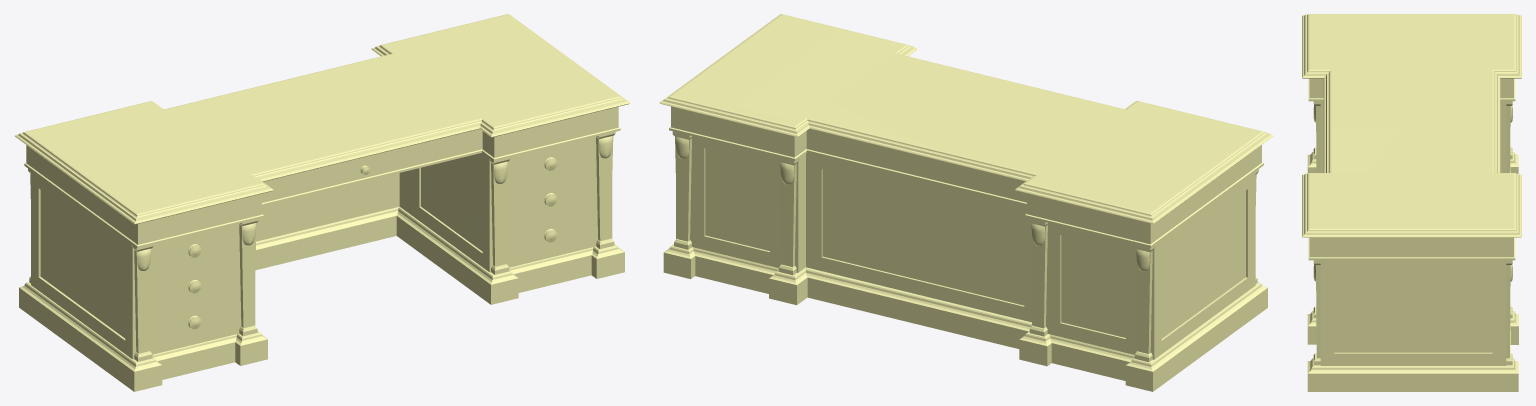
The model's file is MangaKa Props - M_Fu_R_Table_28.glb.
3 renders of one model, left to right at view 1: azimuth 30°, elevation 25°; view 2: azimuth 150°, elevation 25°; view 3: azimuth 270°, elevation 25°, orthographic. The views are drawn at different scales.
Visible parts, largest first — view 1: M_Fu_R_Table_28_blueScreen; view 2: M_Fu_R_Table_28_blueScreen; view 3: M_Fu_R_Table_28_blueScreen.
Part boxes in pixels (x1,y1,x2,y2): M_Fu_R_Table_28_blueScreen: (14, 14, 629, 391); M_Fu_R_Table_28_blueScreen: (659, 14, 1273, 391); M_Fu_R_Table_28_blueScreen: (1302, 14, 1521, 391).
Size of the model in its own units: 2.42 by 0.8202 by 1.02.
